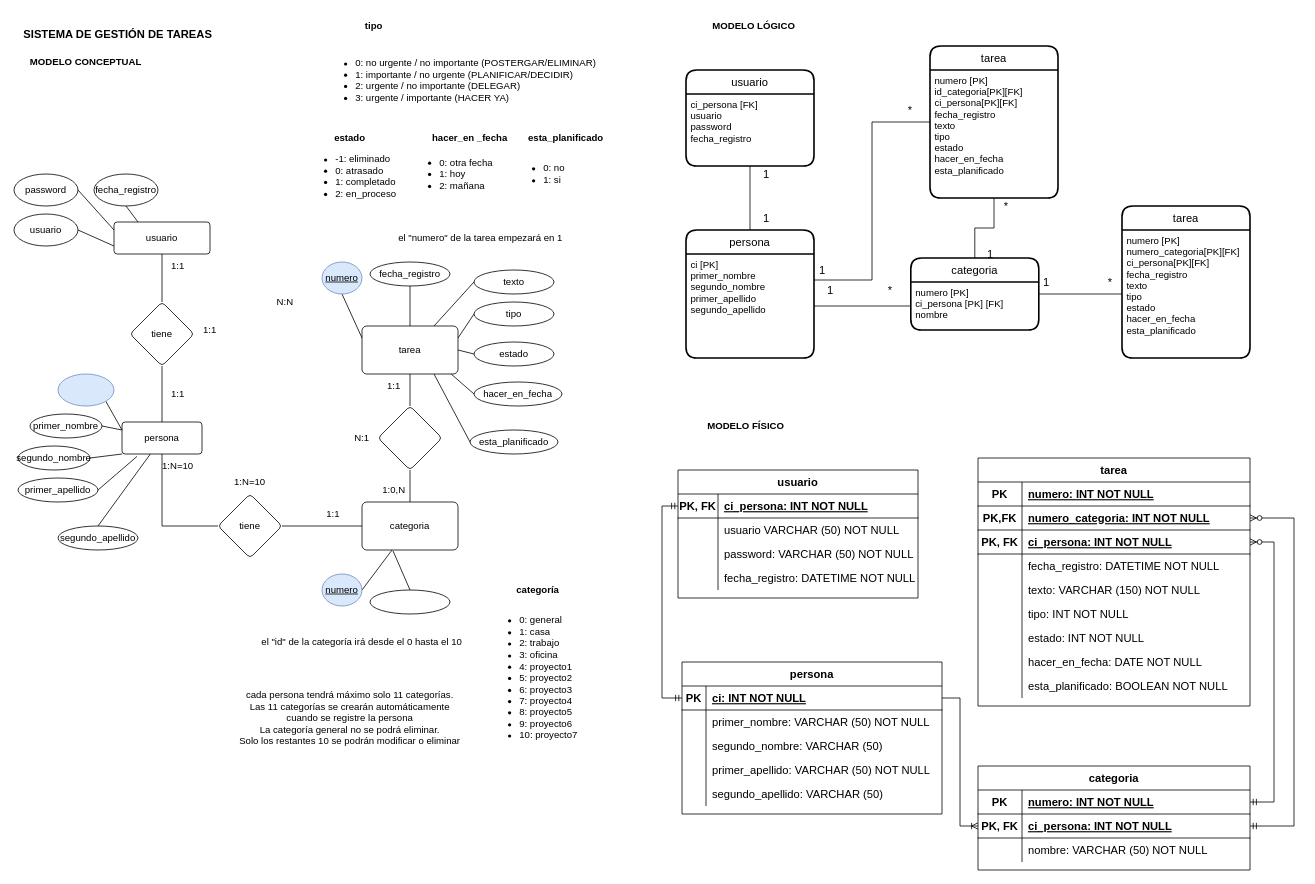
The diagram is 1315 pixels wide and 884 high, and some of its shapes have lost their labels. The shapes that lost their labels are listed below. From the top down, each one's centre as x and y in pixels, then its label:
At (85,389): "ci".
At (409,437): "pertenece".
At (409,601): "nombre".
